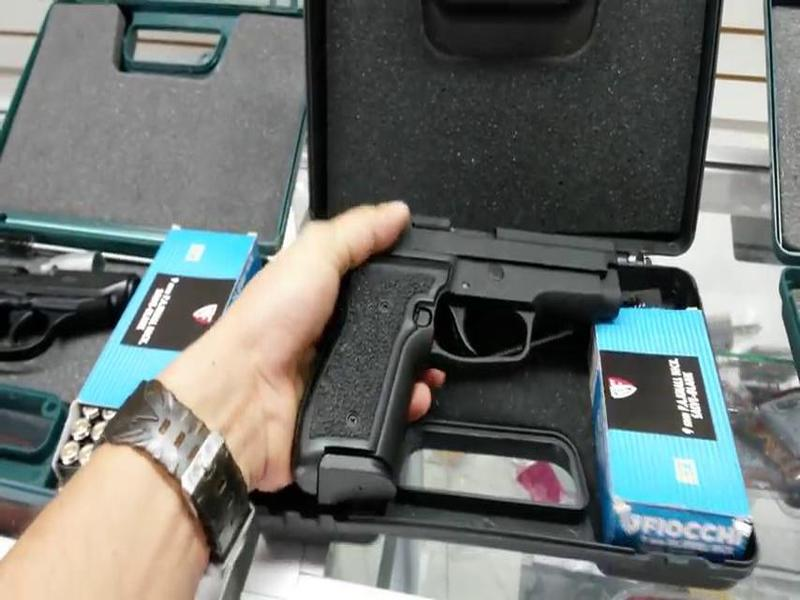Pistola: (282, 216, 663, 524)
